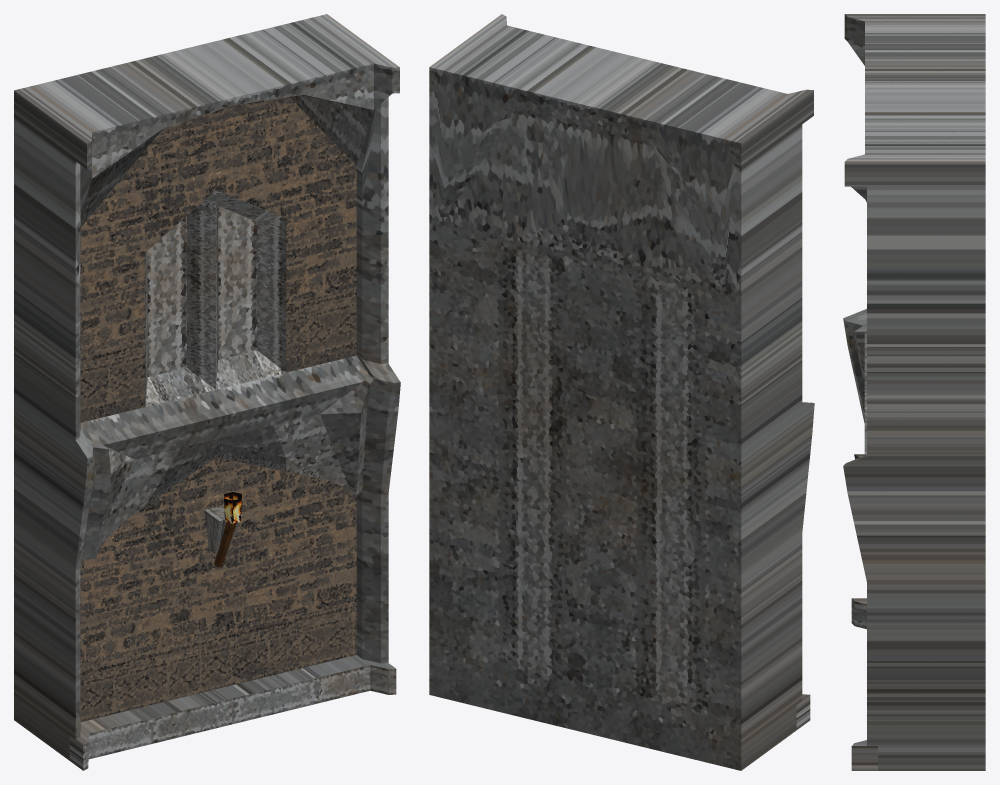
Rendered from SM_WallWindow.fbx.
3 renders of one model, left to right at view 1: azimuth 30°, elevation 25°; view 2: azimuth 150°, elevation 25°; view 3: azimuth 270°, elevation 25°, orthographic. The views are drawn at different scales.
Visible parts, largest first — view 1: SM_wallWindow; view 2: SM_wallWindow; view 3: SM_wallWindow.
Boxes of the visible parts, left/top/right/bottom form: SM_wallWindow: left=14, top=14, right=400, bottom=770; SM_wallWindow: left=429, top=14, right=814, bottom=770; SM_wallWindow: left=843, top=14, right=985, bottom=770.
Size of the model in its own units: 400 by 769 by 163.
